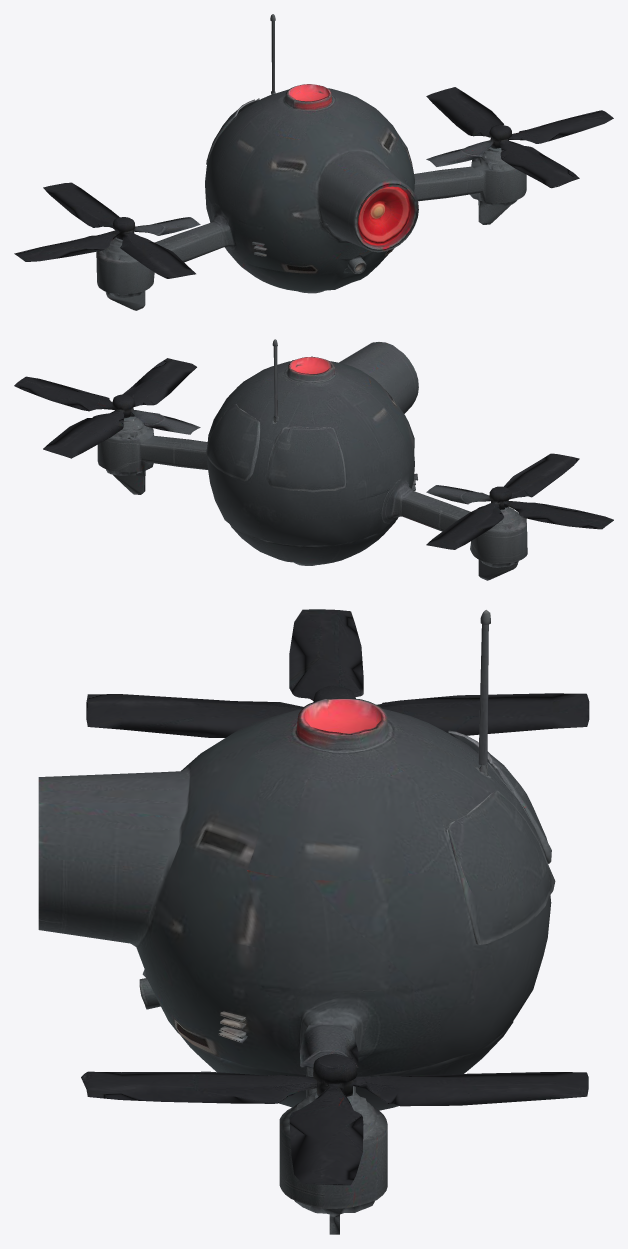
File: enm_scout_drone.glb
3 renders of one model, top to bottom at view 1: azimuth 30°, elevation 25°; view 2: azimuth 150°, elevation 25°; view 3: azimuth 270°, elevation 25°, orthographic. The views are drawn at different scales.
Size of the model in its own units: 0.9575 by 0.3813 by 0.3882.
Materials: 1 (1 with a texture image).
